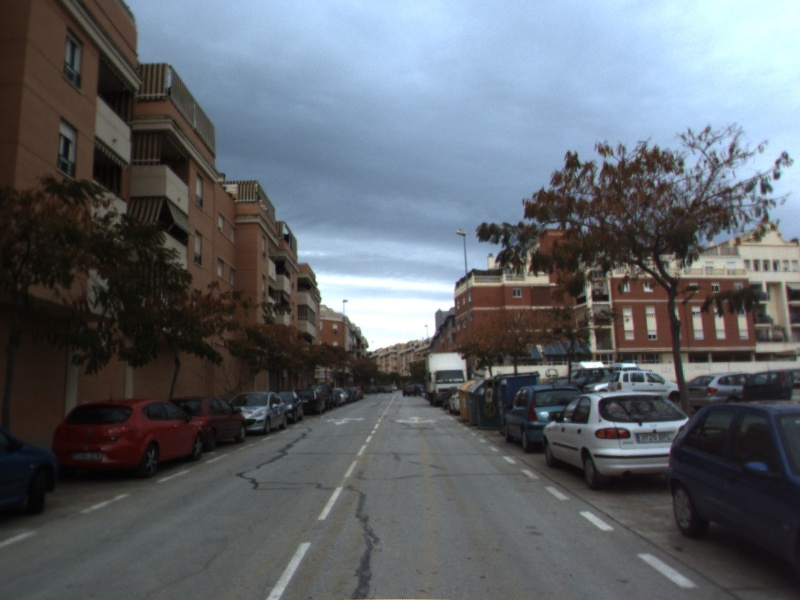STRAIGHT_LEFT_RIGHT: (393, 414, 440, 427)
